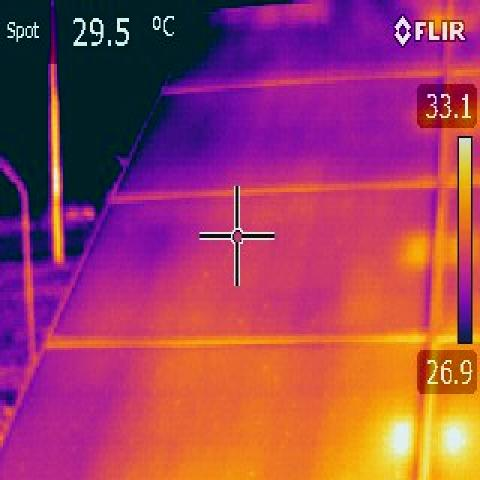fault: (371, 404, 417, 460), (435, 420, 474, 464), (401, 234, 429, 270)
